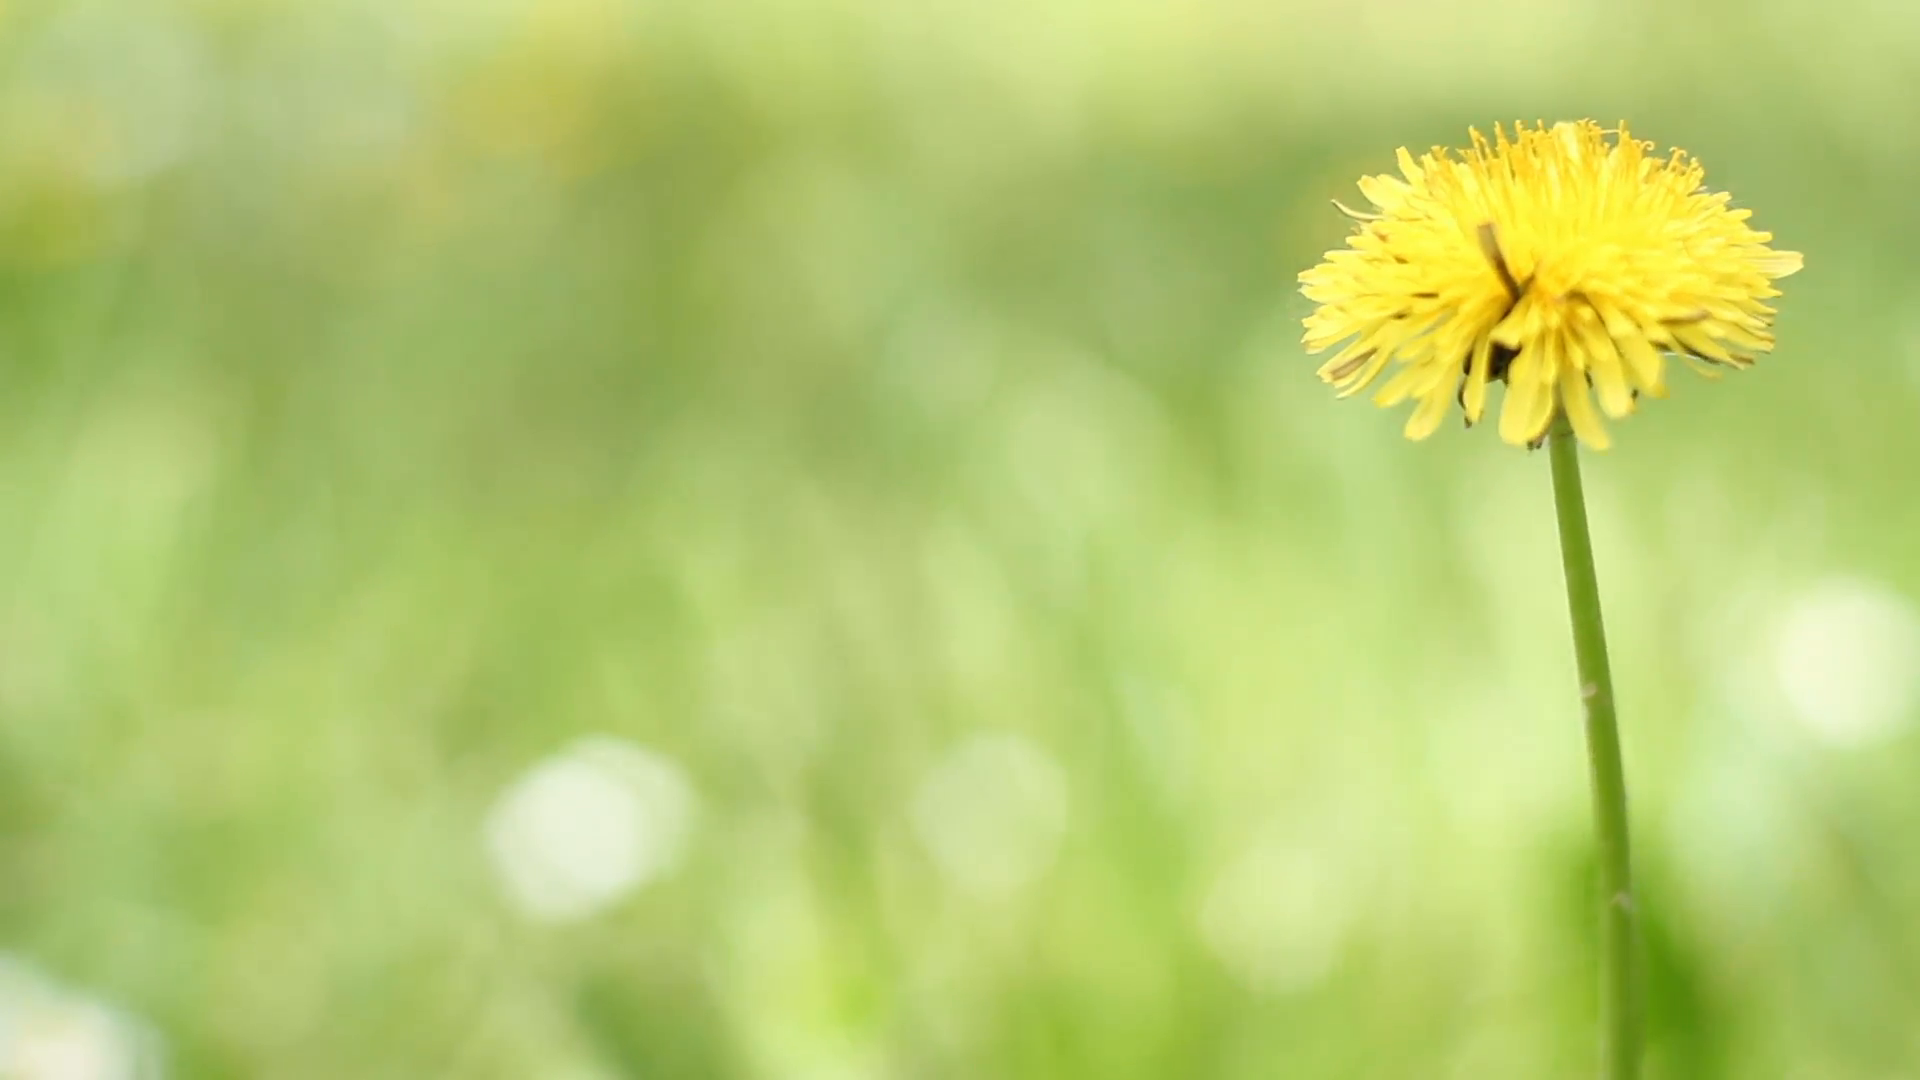dandelion: (1294, 104, 1808, 440)
